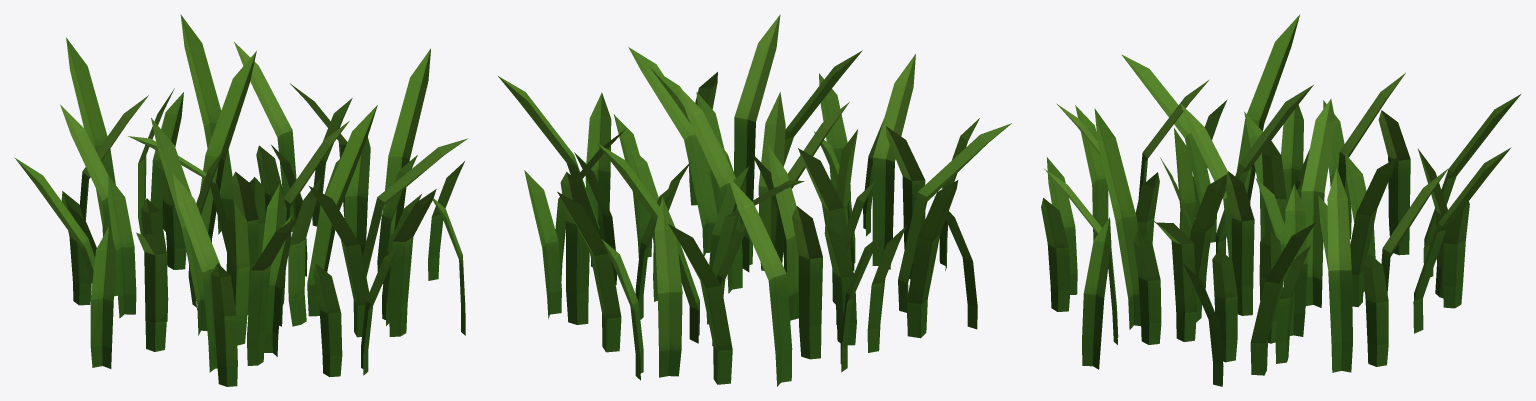
Rendered from GrassMedium1.fbx.
3 renders of one model, left to right at view 1: azimuth 30°, elevation 25°; view 2: azimuth 150°, elevation 25°; view 3: azimuth 270°, elevation 25°, orthographic. The views are drawn at different scales.
Parts seen in each view (by area): view 1: GrassMedium1; view 2: GrassMedium1; view 3: GrassMedium1.
Part boxes in pixels (bbox=[...]): GrassMedium1: bbox=[14, 14, 467, 386]; GrassMedium1: bbox=[498, 14, 1011, 386]; GrassMedium1: bbox=[1041, 14, 1520, 386].
Bounding box in the file's own units: 1.07 × 0.4406 × 1.04.
